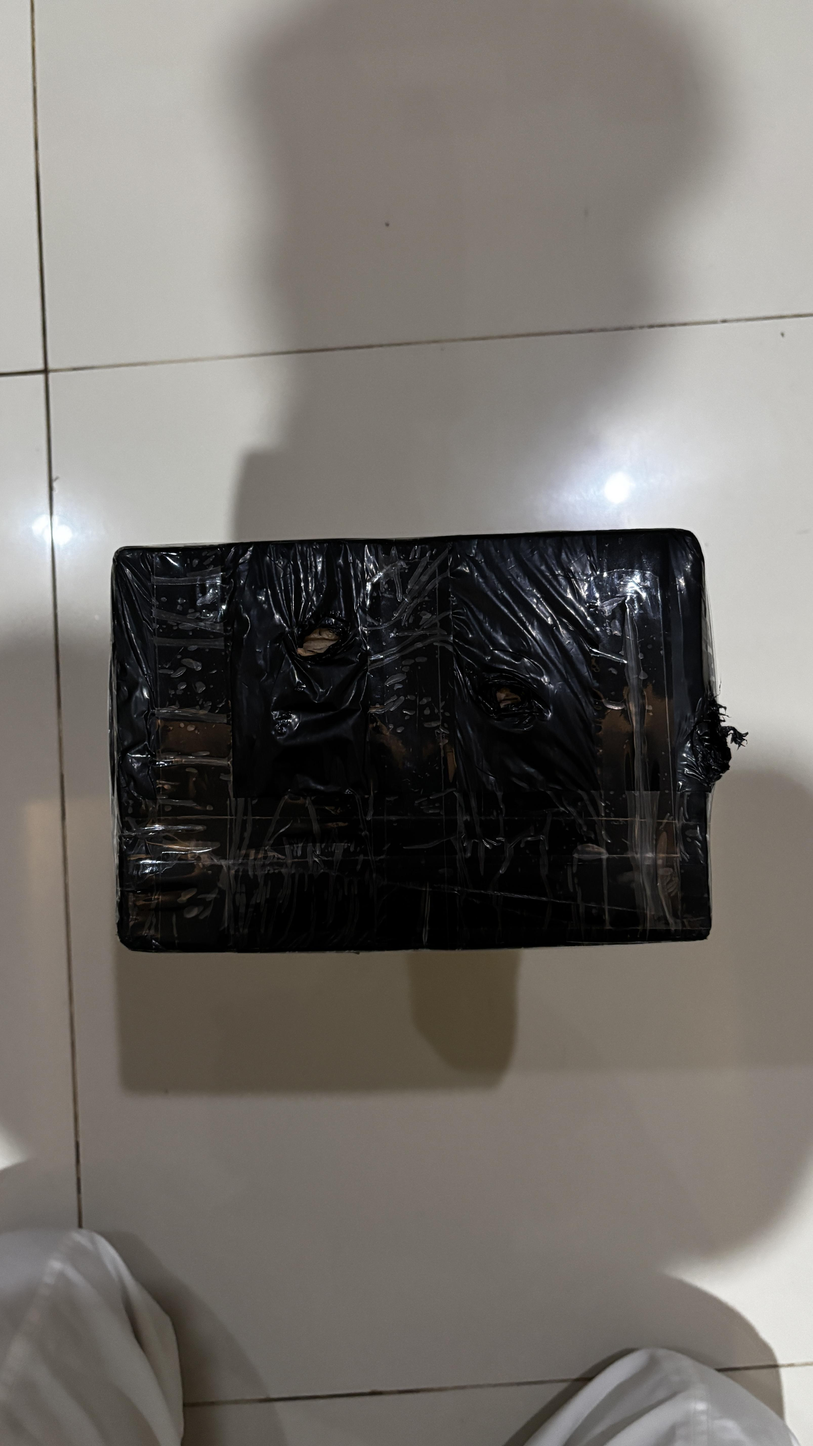damaged package: (484, 673, 553, 734), (276, 612, 349, 666), (694, 695, 732, 784)
undamaged: (94, 521, 759, 958)
